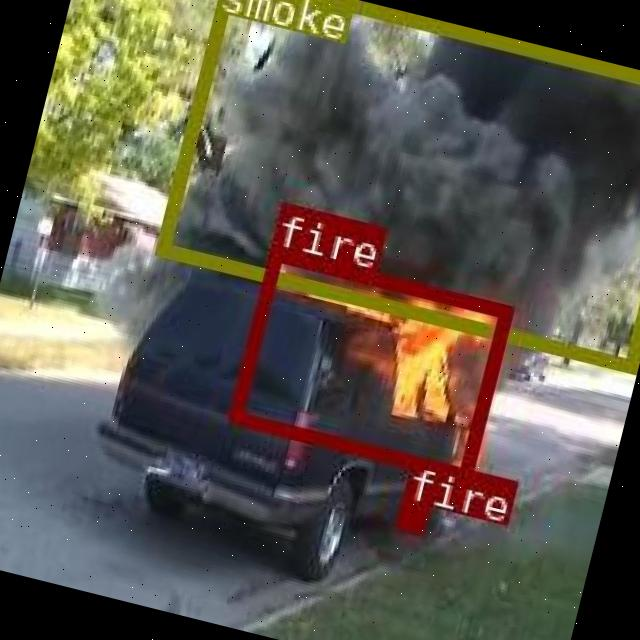fire: (226, 244, 512, 478), (394, 497, 428, 532)
smoke: (151, 0, 640, 368)
